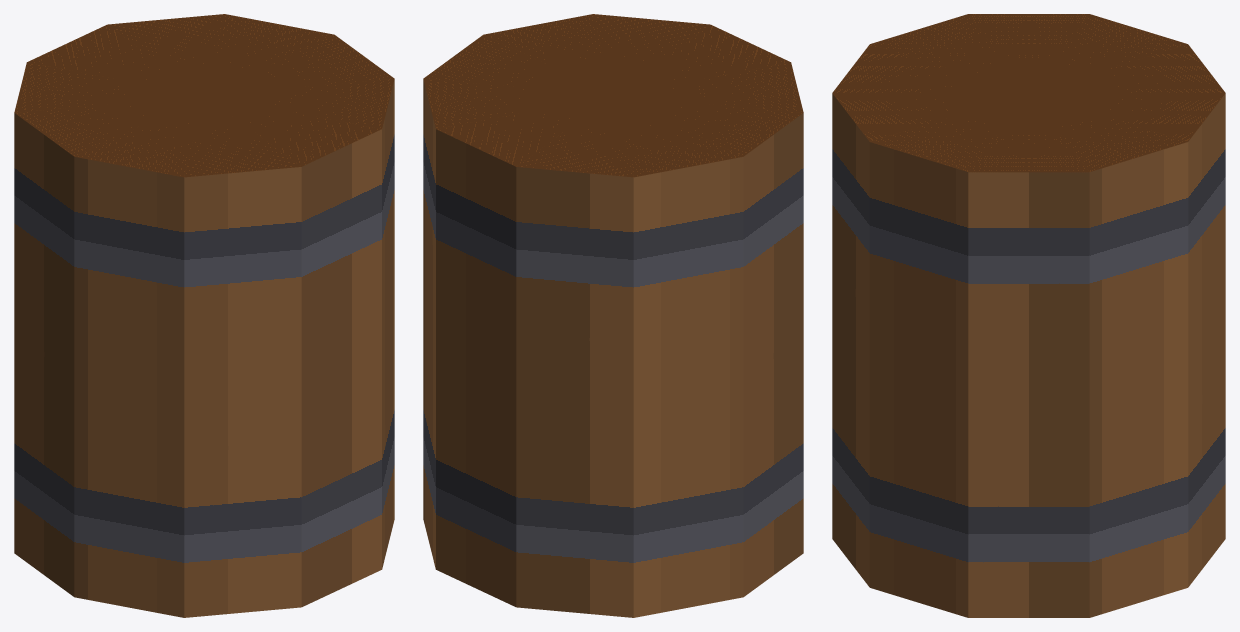
Rendered from barril.gltf.
3 renders of one model, left to right at view 1: azimuth 30°, elevation 25°; view 2: azimuth 150°, elevation 25°; view 3: azimuth 270°, elevation 25°, orthographic.
Parts seen in each view (by area): view 1: barril; view 2: barril; view 3: barril.
Boxes of the visible parts, x1,y1,x2,y2 form: barril: (14,14,394,617); barril: (423,14,803,617); barril: (832,14,1225,617).
Size of the model in its own units: 0.7608 by 1 by 0.8.
1 material, 1 textured.
